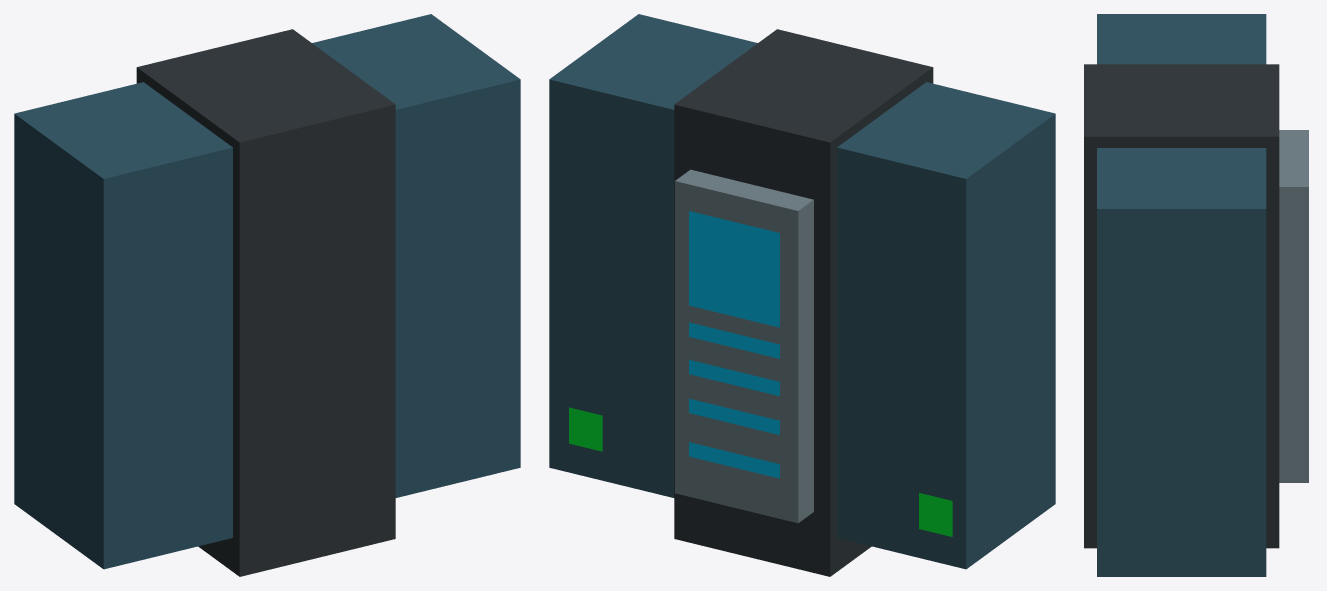
Rendered from Power Bag 02.FBX.
3 views of the same model, side by side, from view 1: azimuth 30°, elevation 25°; view 2: azimuth 150°, elevation 25°; view 3: azimuth 270°, elevation 25° (orthographic). The views are drawn at different scales.
Visible parts, largest first — view 1: Power Bag 02; view 2: Power Bag 02; view 3: Power Bag 02.
Part boxes in pixels (left/top/right/bottom): Power Bag 02: left=14, top=14, right=520, bottom=576; Power Bag 02: left=549, top=14, right=1055, bottom=576; Power Bag 02: left=1084, top=14, right=1308, bottom=576.
Size of the model in its own units: 33.09 by 32.94 by 16.6.
